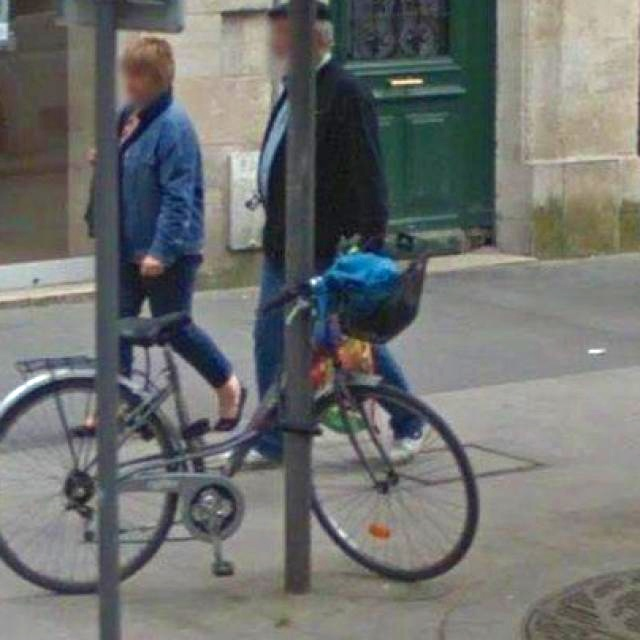bicycle: (8, 223, 515, 608)
